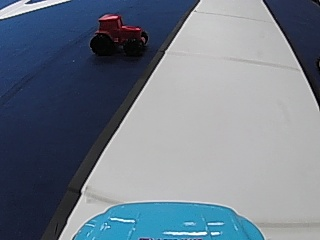tractor: (90, 10, 149, 57)
